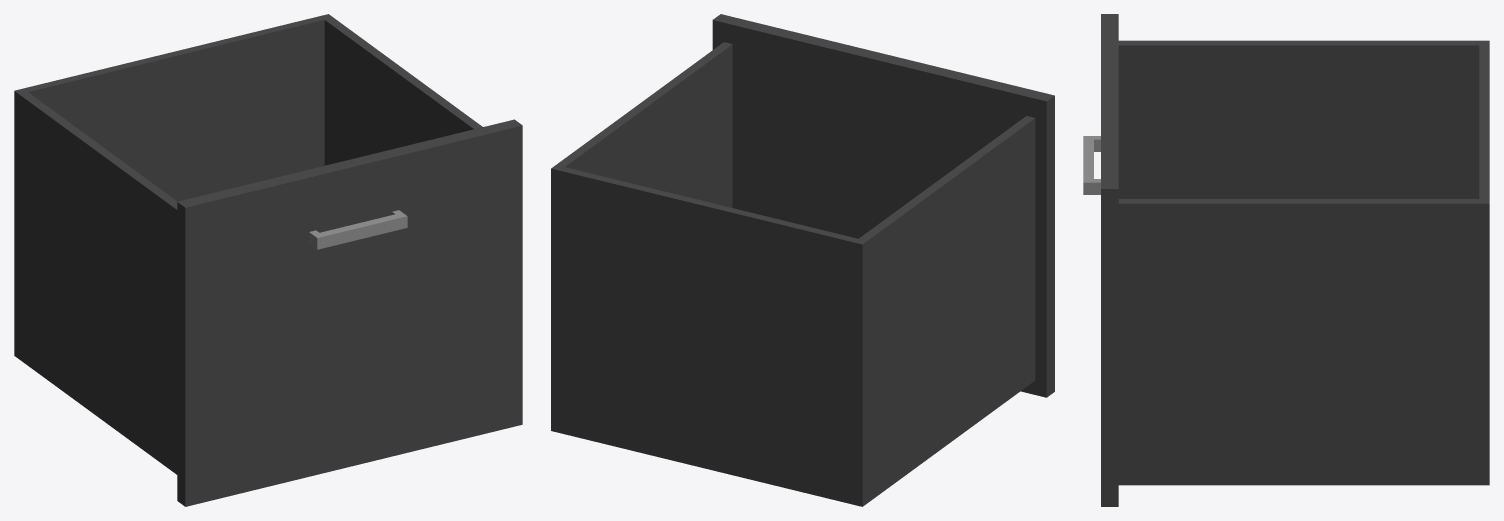
File: Door2_C3_06.fbx
3 renders of one model, left to right at view 1: azimuth 30°, elevation 25°; view 2: azimuth 150°, elevation 25°; view 3: azimuth 270°, elevation 25°, orthographic. The views are drawn at different scales.
Visible parts, largest first — view 1: Door2_C3_06; view 2: Door2_C3_06; view 3: Door2_C3_06.
Boxes of the visible parts, x1=… form: Door2_C3_06: x1=14, y1=14, x2=522, y2=506; Door2_C3_06: x1=551, y1=14, x2=1054, y2=506; Door2_C3_06: x1=1083, y1=14, x2=1489, y2=506.
Size of the model in its own units: 59 by 50 by 57.89.
